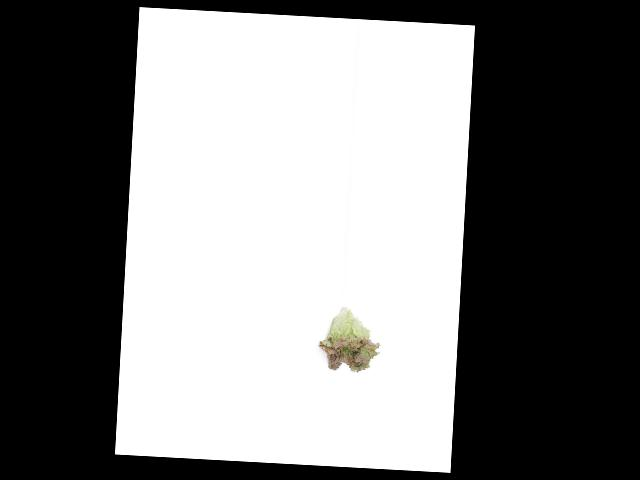lettuce: (311, 304, 384, 381)
